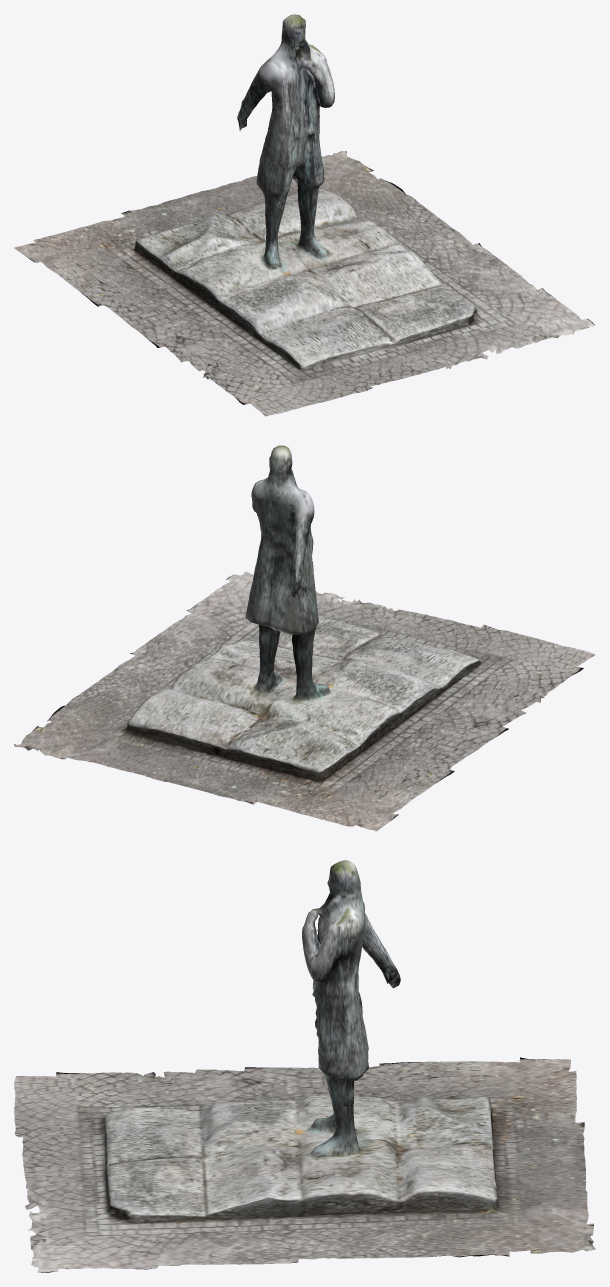
The model's file is finalwolfemodel.obj.
3 views of the same model, one above another, from view 1: azimuth 30°, elevation 25°; view 2: azimuth 150°, elevation 25°; view 3: azimuth 270°, elevation 25° (orthographic). The views are drawn at different scales.
Parts seen in each view (by area): view 1: wolfemesh_lq_wolfemesh; view 2: wolfemesh_lq_wolfemesh; view 3: wolfemesh_lq_wolfemesh.
Part boxes in pixels (x1,y1,x2,y2): wolfemesh_lq_wolfemesh: [14, 14, 595, 416]; wolfemesh_lq_wolfemesh: [14, 445, 595, 831]; wolfemesh_lq_wolfemesh: [14, 860, 595, 1272].
Size of the model in its own units: 4.76 by 3.31 by 5.55.
